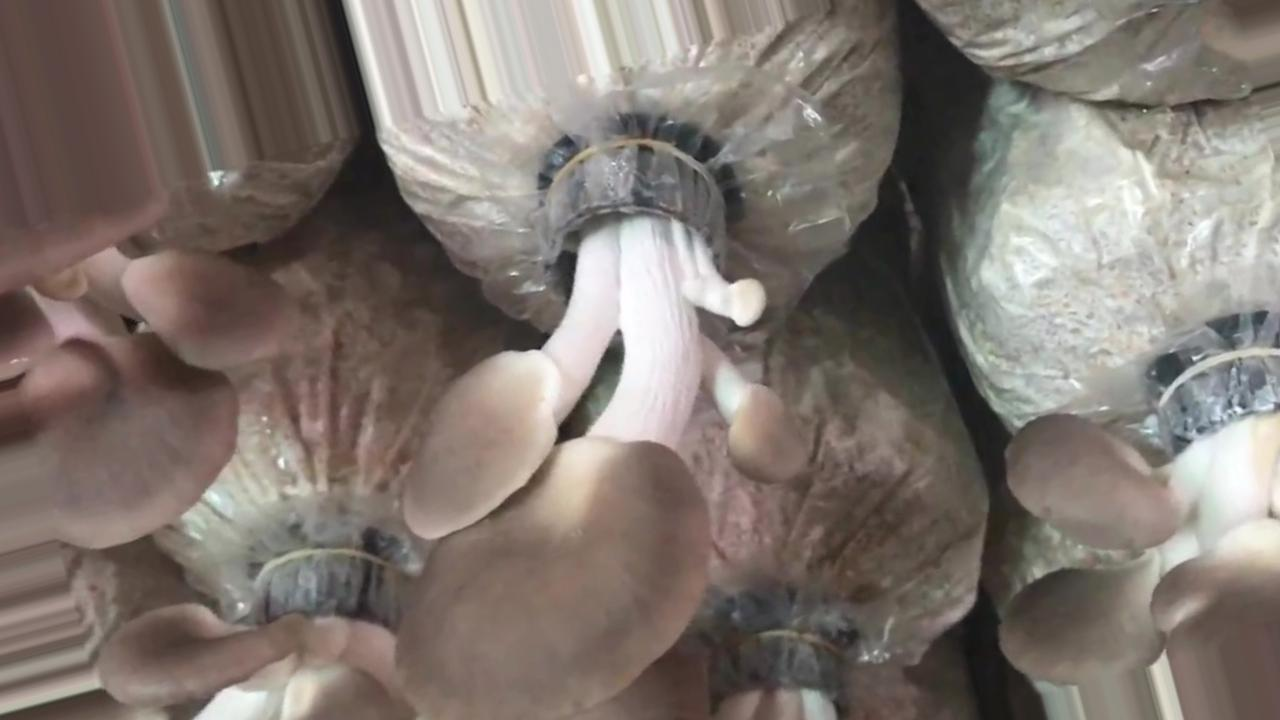nam: (396, 120, 810, 720), (1, 2, 332, 543), (98, 541, 705, 720), (1002, 343, 1280, 718)
